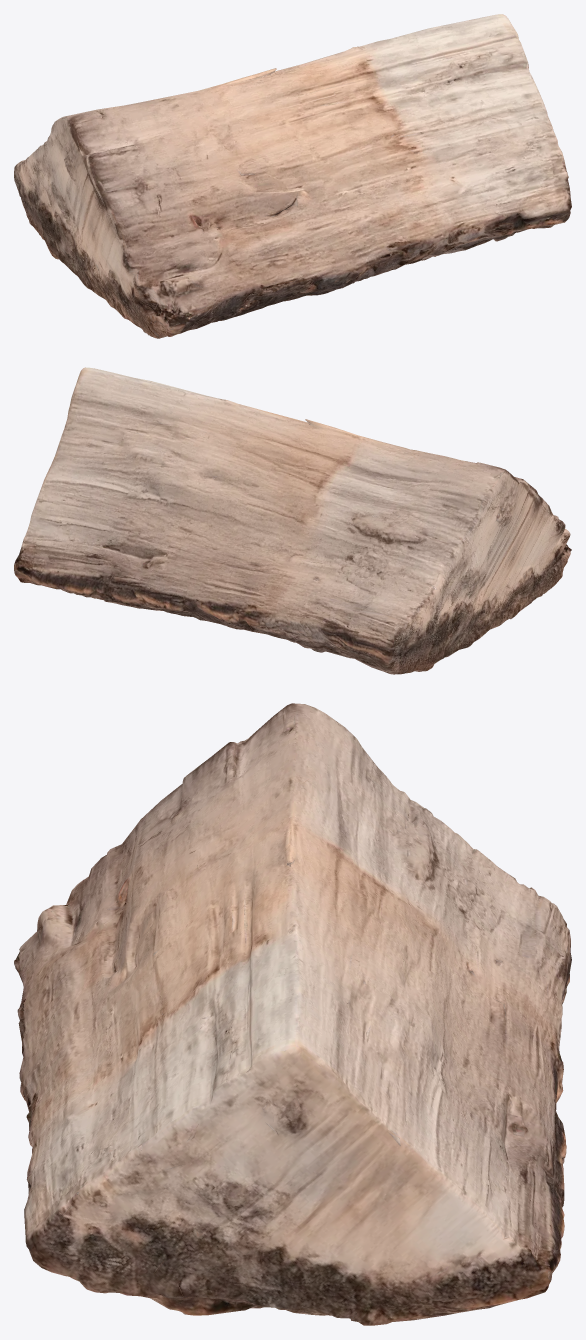
Rendered from half_b.glb.
3 views of the same model, one above another, from view 1: azimuth 30°, elevation 25°; view 2: azimuth 150°, elevation 25°; view 3: azimuth 270°, elevation 25° (orthographic). The views are drawn at different scales.
Parts seen in each view (by area): view 1: Mesh1.0; view 2: Mesh1.0; view 3: Mesh1.0.
Boxes of the visible parts, x1,y1,x2,y2 form: Mesh1.0: (14, 14, 571, 338); Mesh1.0: (14, 367, 571, 674); Mesh1.0: (14, 703, 571, 1325).
Bounding box in the file's own units: 1.91 × 0.7719 × 1.3.
1 material, 1 textured.
